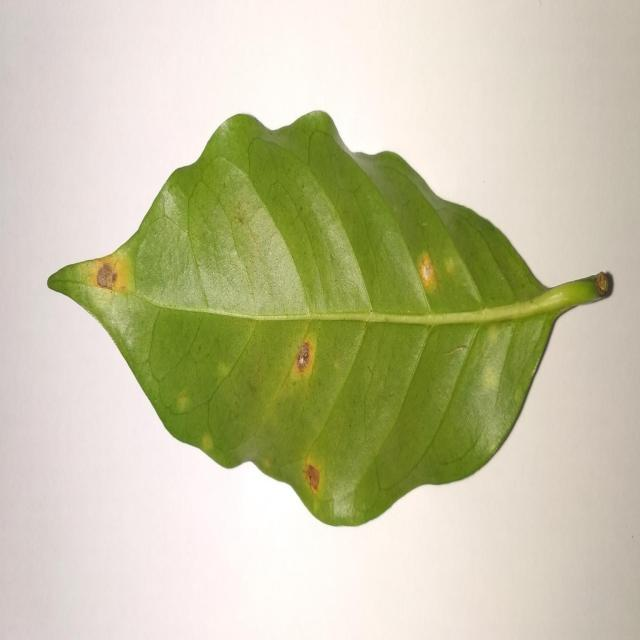Enfermedad-Roya: (46, 111, 615, 530)
